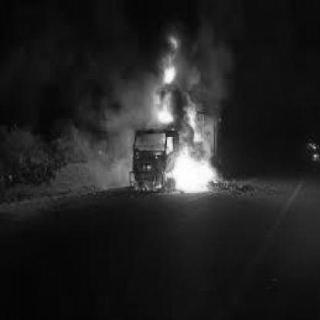Fire: (153, 36, 215, 194)
Smoke: (112, 81, 142, 121)
